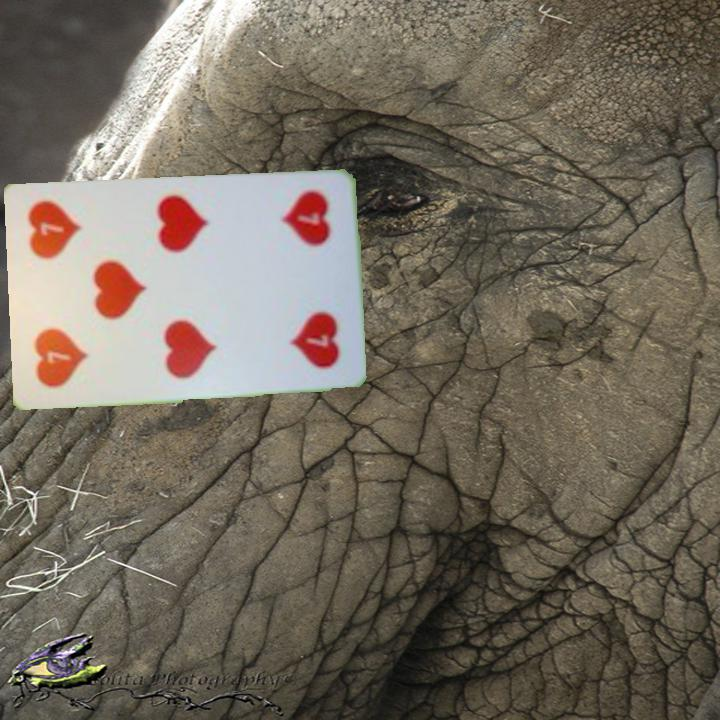h_7.png: (255, 185, 346, 289), (24, 290, 114, 393)
